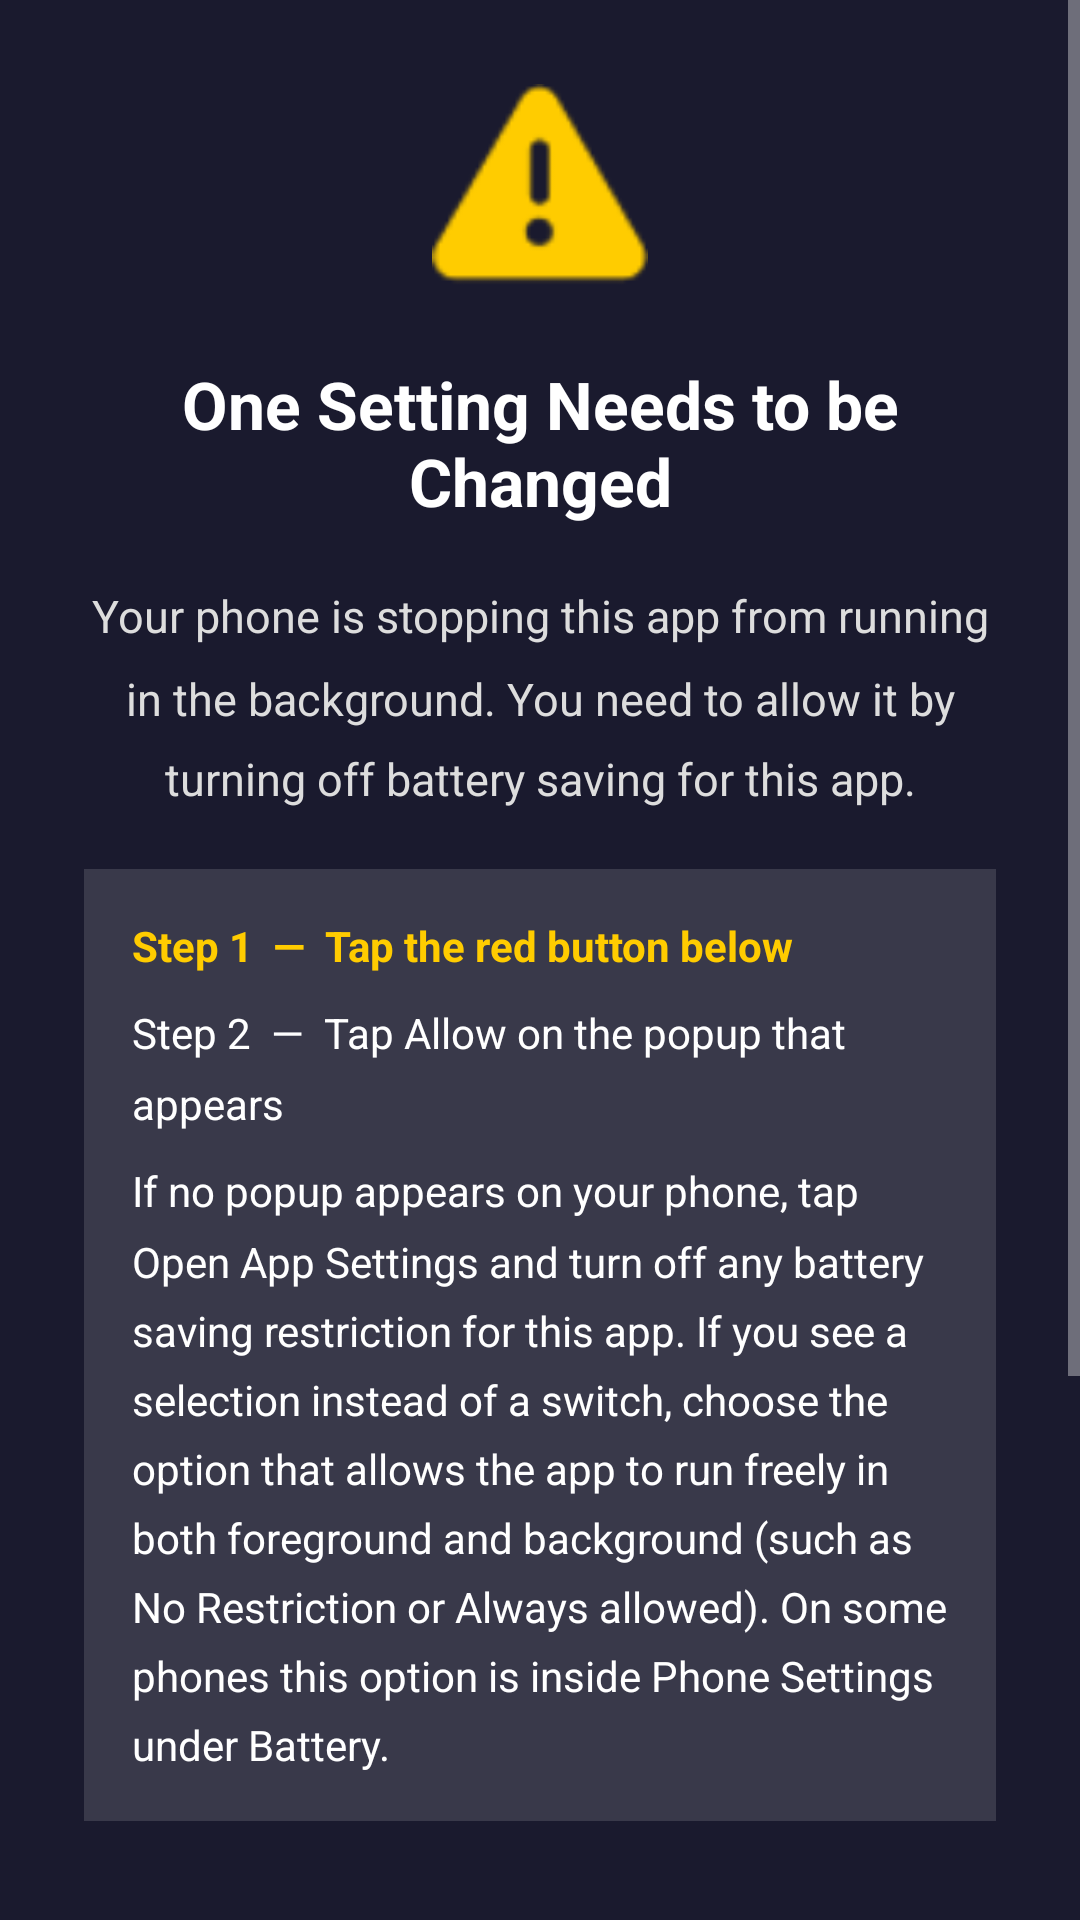

Locate icon controls on the screen. Image size 1080px x 1920px, boxes as (x1, y1, x2, y2).
Warning: (432, 84, 648, 281)
